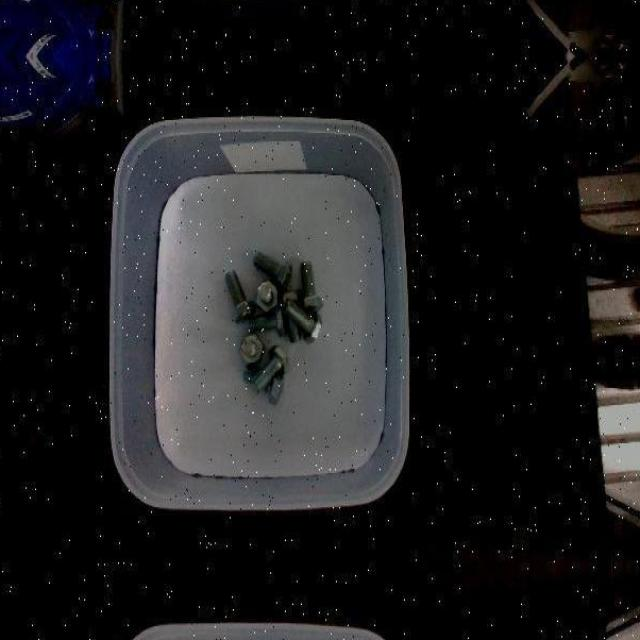screw: (251, 343, 291, 393), (282, 298, 321, 343), (224, 269, 255, 323), (253, 250, 292, 291), (239, 332, 264, 364), (256, 281, 278, 312)
